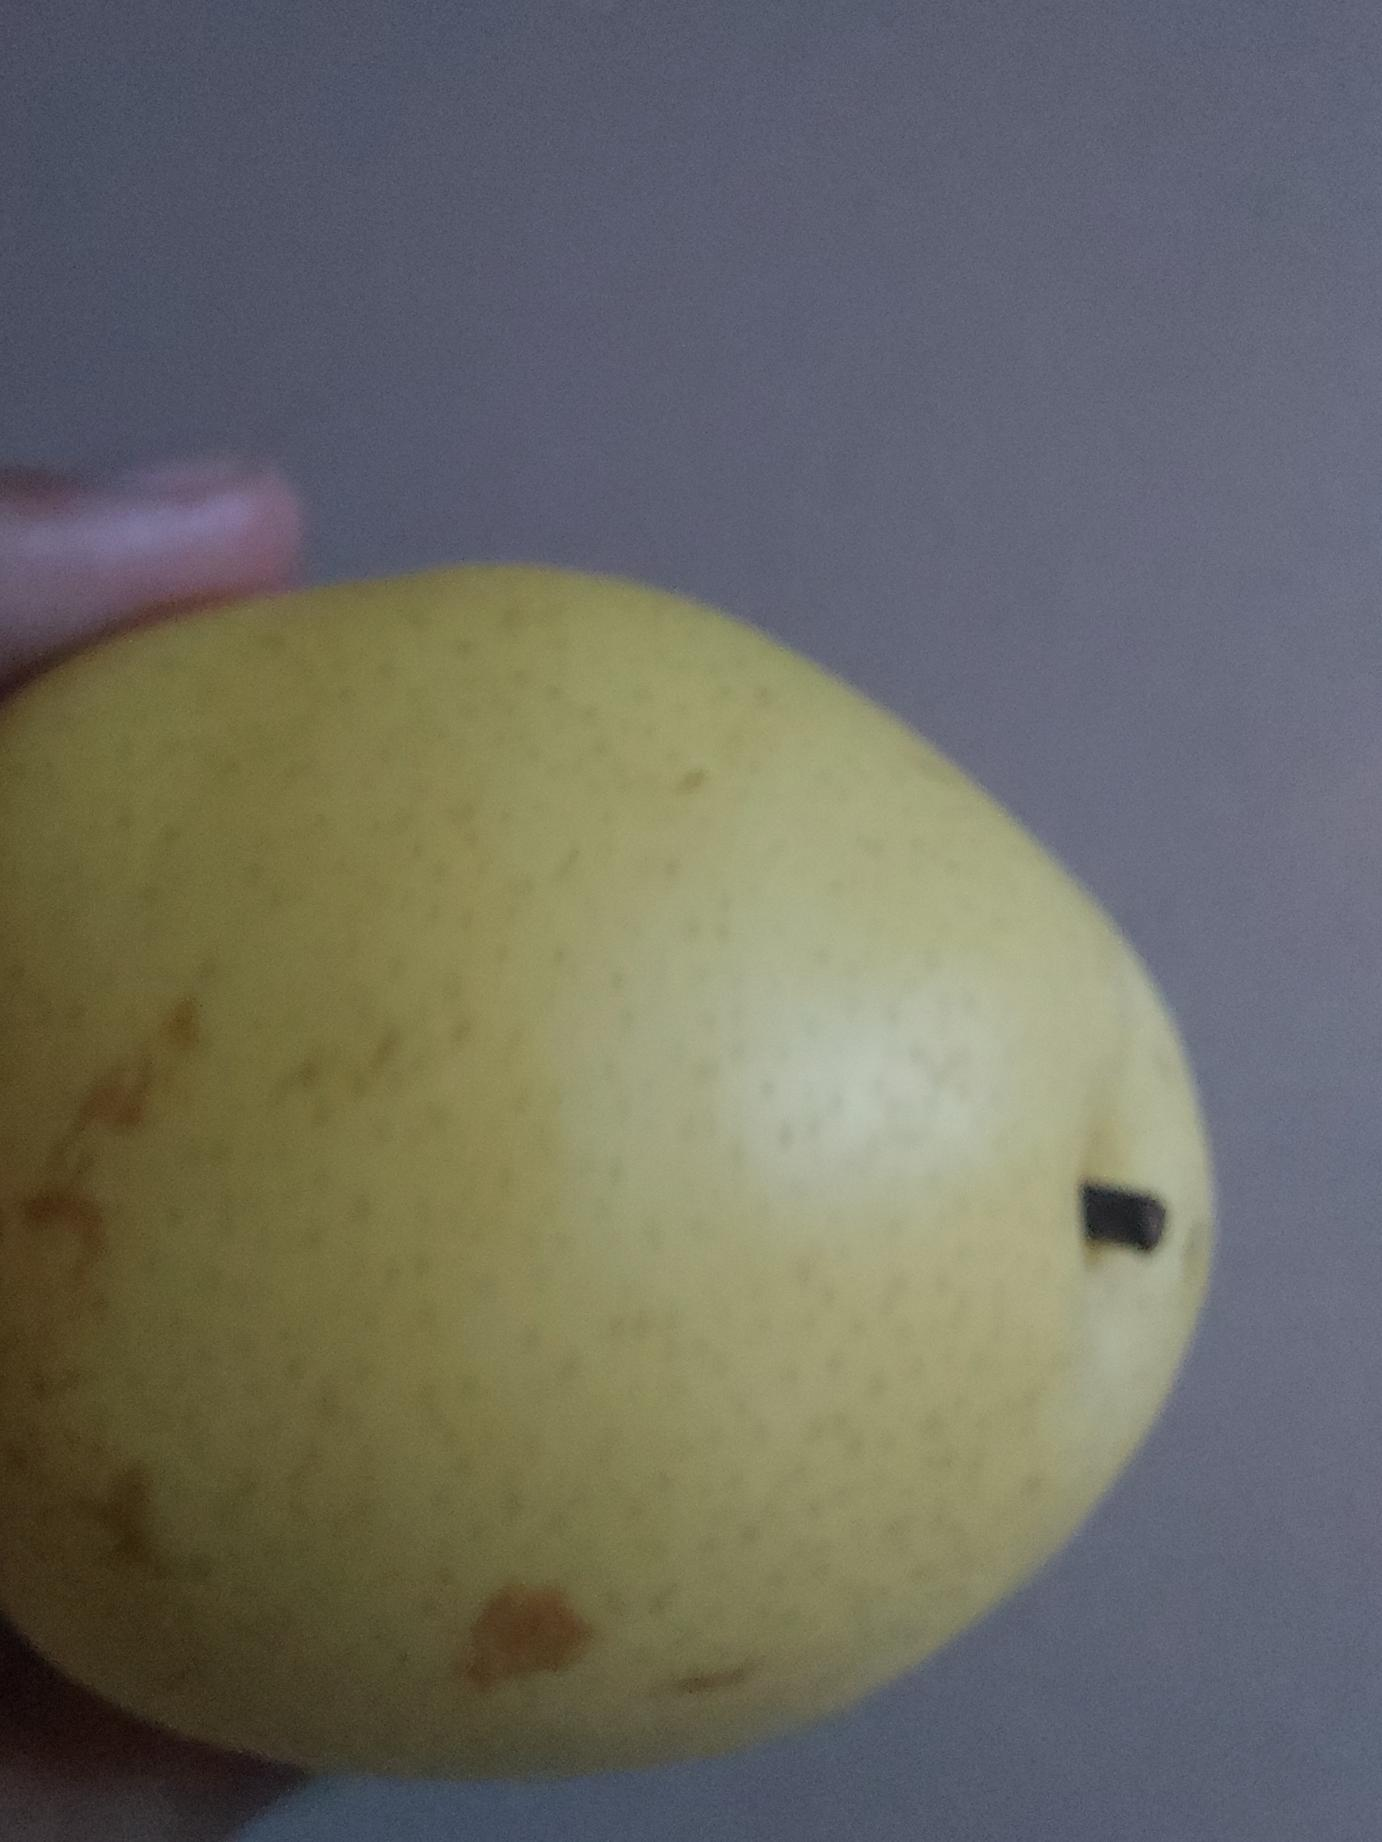Good Pear: (0, 592, 1230, 1793)
